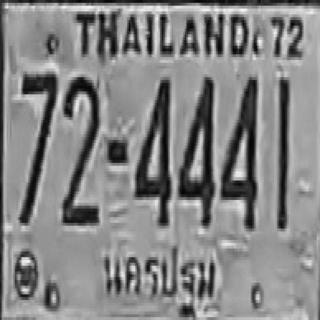N01: (276, 76, 290, 230)
N02: (61, 74, 99, 223)
N04: (219, 74, 257, 229), (177, 73, 214, 224), (134, 74, 170, 223)
N07: (18, 70, 56, 222)
P28: (102, 239, 217, 318)
